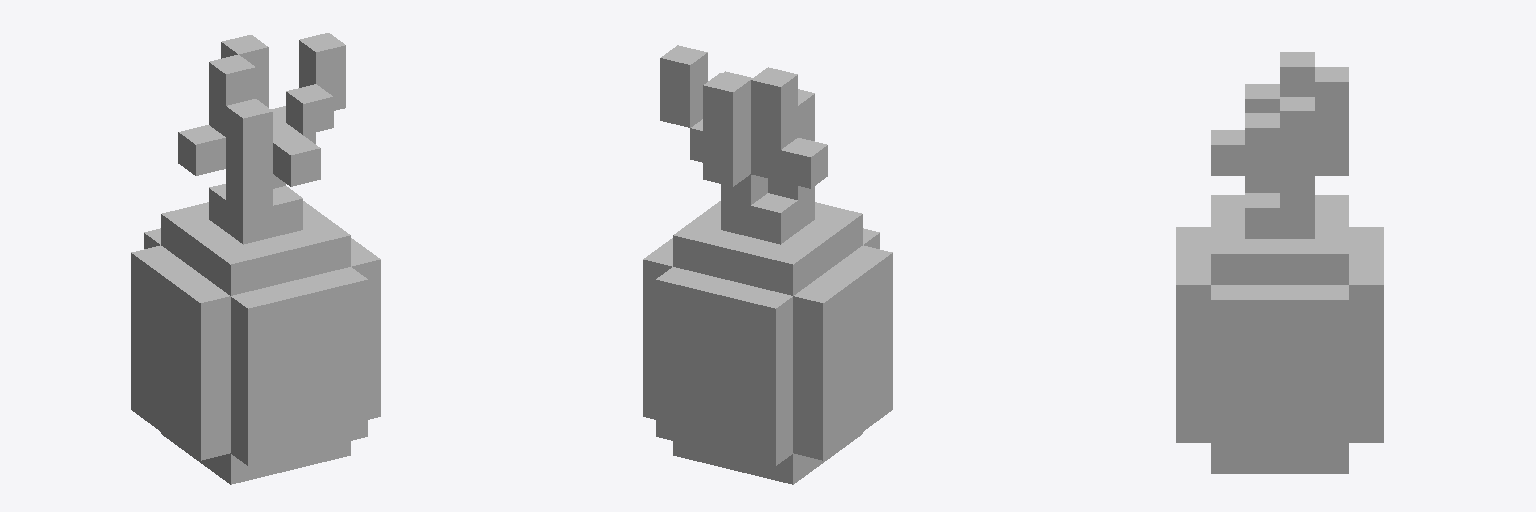
File: Pineapple.obj
The picture shows the model from 3 angles: view 1: azimuth 30°, elevation 25°; view 2: azimuth 150°, elevation 25°; view 3: azimuth 270°, elevation 25°; orthographic projection.
Visible parts, largest first — view 1: object 1; view 2: object 1; view 3: object 1.
Part boxes in pixels (bbox=[...]): object 1: bbox=[131, 33, 380, 484]; object 1: bbox=[643, 45, 892, 484]; object 1: bbox=[1176, 52, 1383, 473].
Size of the model in its own units: 0.6 by 1.2 by 0.6.